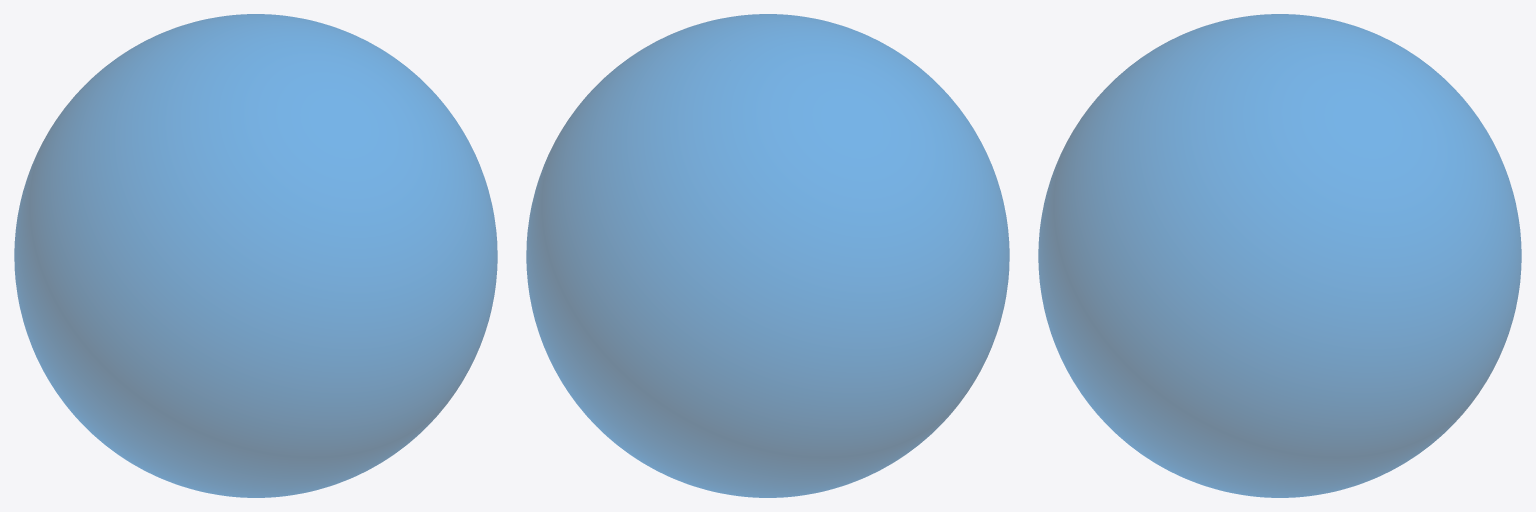
File: free_bubble_kit.glb
The picture shows the model from 3 angles, left to right: view 1: azimuth 30°, elevation 25°; view 2: azimuth 150°, elevation 25°; view 3: azimuth 270°, elevation 25°; orthographic projection.
Parts seen in each view (by area): view 1: obj_bubble-breath_4; view 2: obj_bubble-breath_4; view 3: obj_bubble-breath_4.
Part boxes in pixels (x1,y1,x2,y2): obj_bubble-breath_4: (14, 14, 497, 497); obj_bubble-breath_4: (526, 14, 1009, 497); obj_bubble-breath_4: (1038, 14, 1521, 497).
Size of the model in its own units: 1.73 by 1.73 by 1.73.
